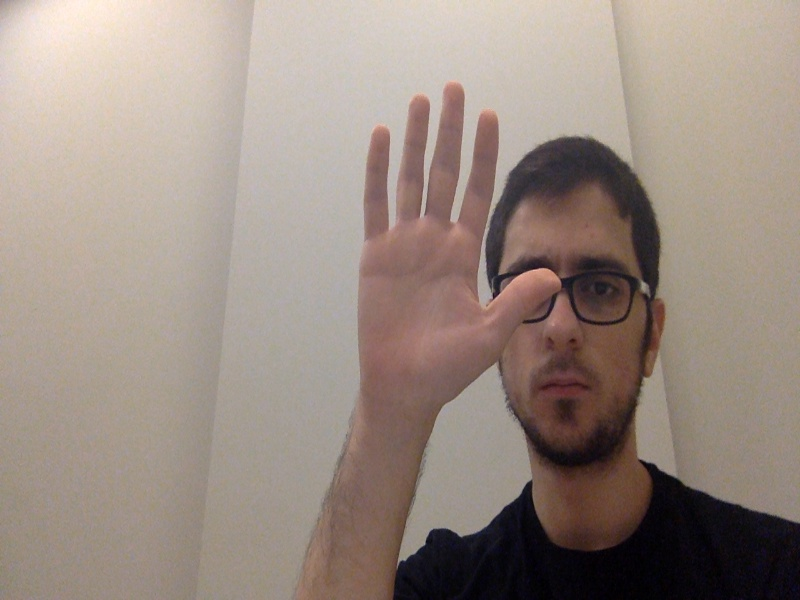5-hand: (342, 77, 562, 426)
